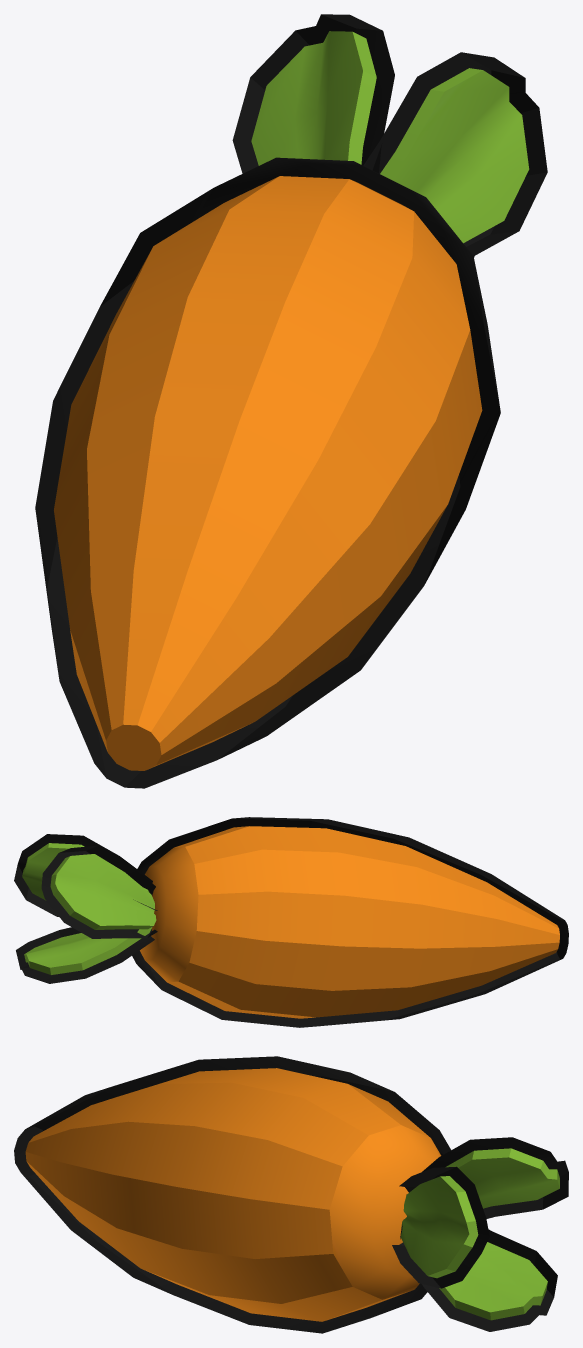
The model's file is carrot.fbx.
3 renders of one model, top to bottom at view 1: azimuth 30°, elevation 25°; view 2: azimuth 150°, elevation 25°; view 3: azimuth 270°, elevation 25°, orthographic. The views are drawn at different scales.
Parts seen in each view (by area): view 1: polySurface6; view 2: polySurface6; view 3: polySurface6.
Part boxes in pixels (bbox=[...]): polySurface6: bbox=[35, 14, 547, 788]; polySurface6: bbox=[14, 817, 568, 1027]; polySurface6: bbox=[14, 1056, 568, 1333].
Bounding box in the file's own units: 1.97 × 1.02 × 1.95.
